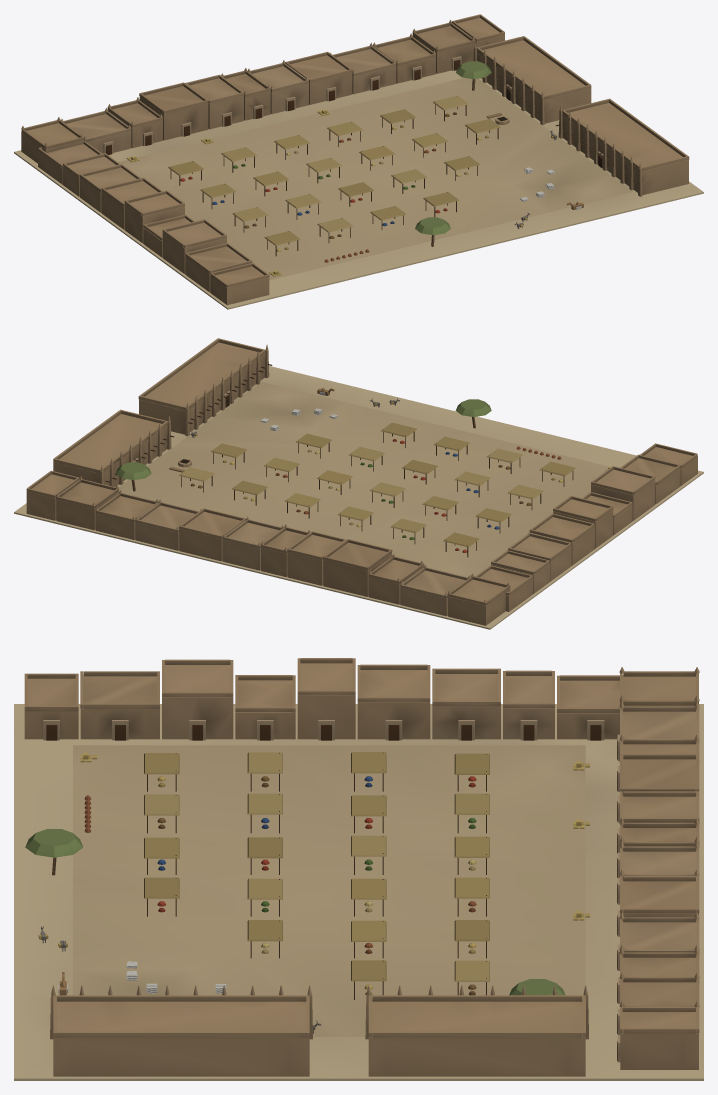
File: great-market.glb
3 views of the same model, one above another, from view 1: azimuth 30°, elevation 25°; view 2: azimuth 150°, elevation 25°; view 3: azimuth 270°, elevation 25° (orthographic). The views are drawn at different scales.
Visible parts, largest first — view 1: p0_ground, p1_shops, p2_stalls, p3_goods; view 2: p0_ground, p1_shops, p2_stalls, p3_goods; view 3: p0_ground, p1_shops, p2_stalls, p3_goods.
Part boxes in pixels (left/top/right/bottom): p0_ground: left=14, top=70, right=703, bottom=309; p1_shops: left=21, top=14, right=689, bottom=305; p2_stalls: left=168, top=95, right=500, bottom=256; p3_goods: left=126, top=61, right=583, bottom=276; p0_ground: left=14, top=366, right=703, bottom=629; p1_shops: left=26, top=338, right=697, bottom=625; p2_stalls: left=179, top=422, right=575, bottom=557; p3_goods: left=115, top=387, right=610, bottom=491; p0_ground: left=14, top=704, right=703, bottom=1080; p1_shops: left=24, top=658, right=699, bottom=1076; p2_stalls: left=144, top=752, right=489, bottom=999; p3_goods: left=25, top=752, right=589, bottom=1033.
Bounding box in the file's own units: 90 × 6.19 × 70.
